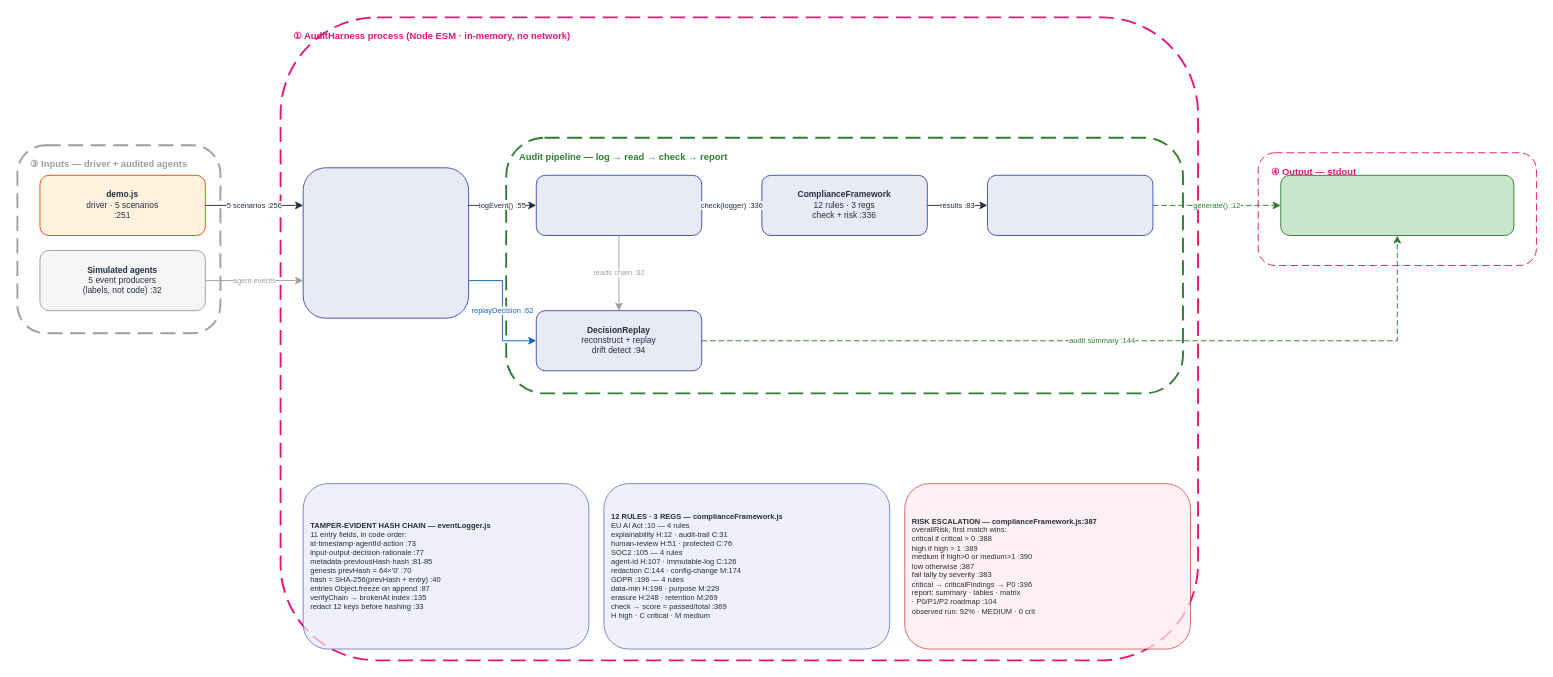
The diagram is 1553 pixels wide and 677 high, and some of its shapes have lost their labels. The shapes that lost their labels are listed below. From the top down, each one's centre as x and y in pixels, then its label:
point 618,204: EventLogger SHA-256 hash chain append-only store :47
point 1070,204: ComplianceReporter Markdown report generate() :12
point 1397,204: stdout output Markdown report + export + replay summary :186
point 385,242: AuditHarness orchestrator :13 4 public methods logEvent→…→report :55
